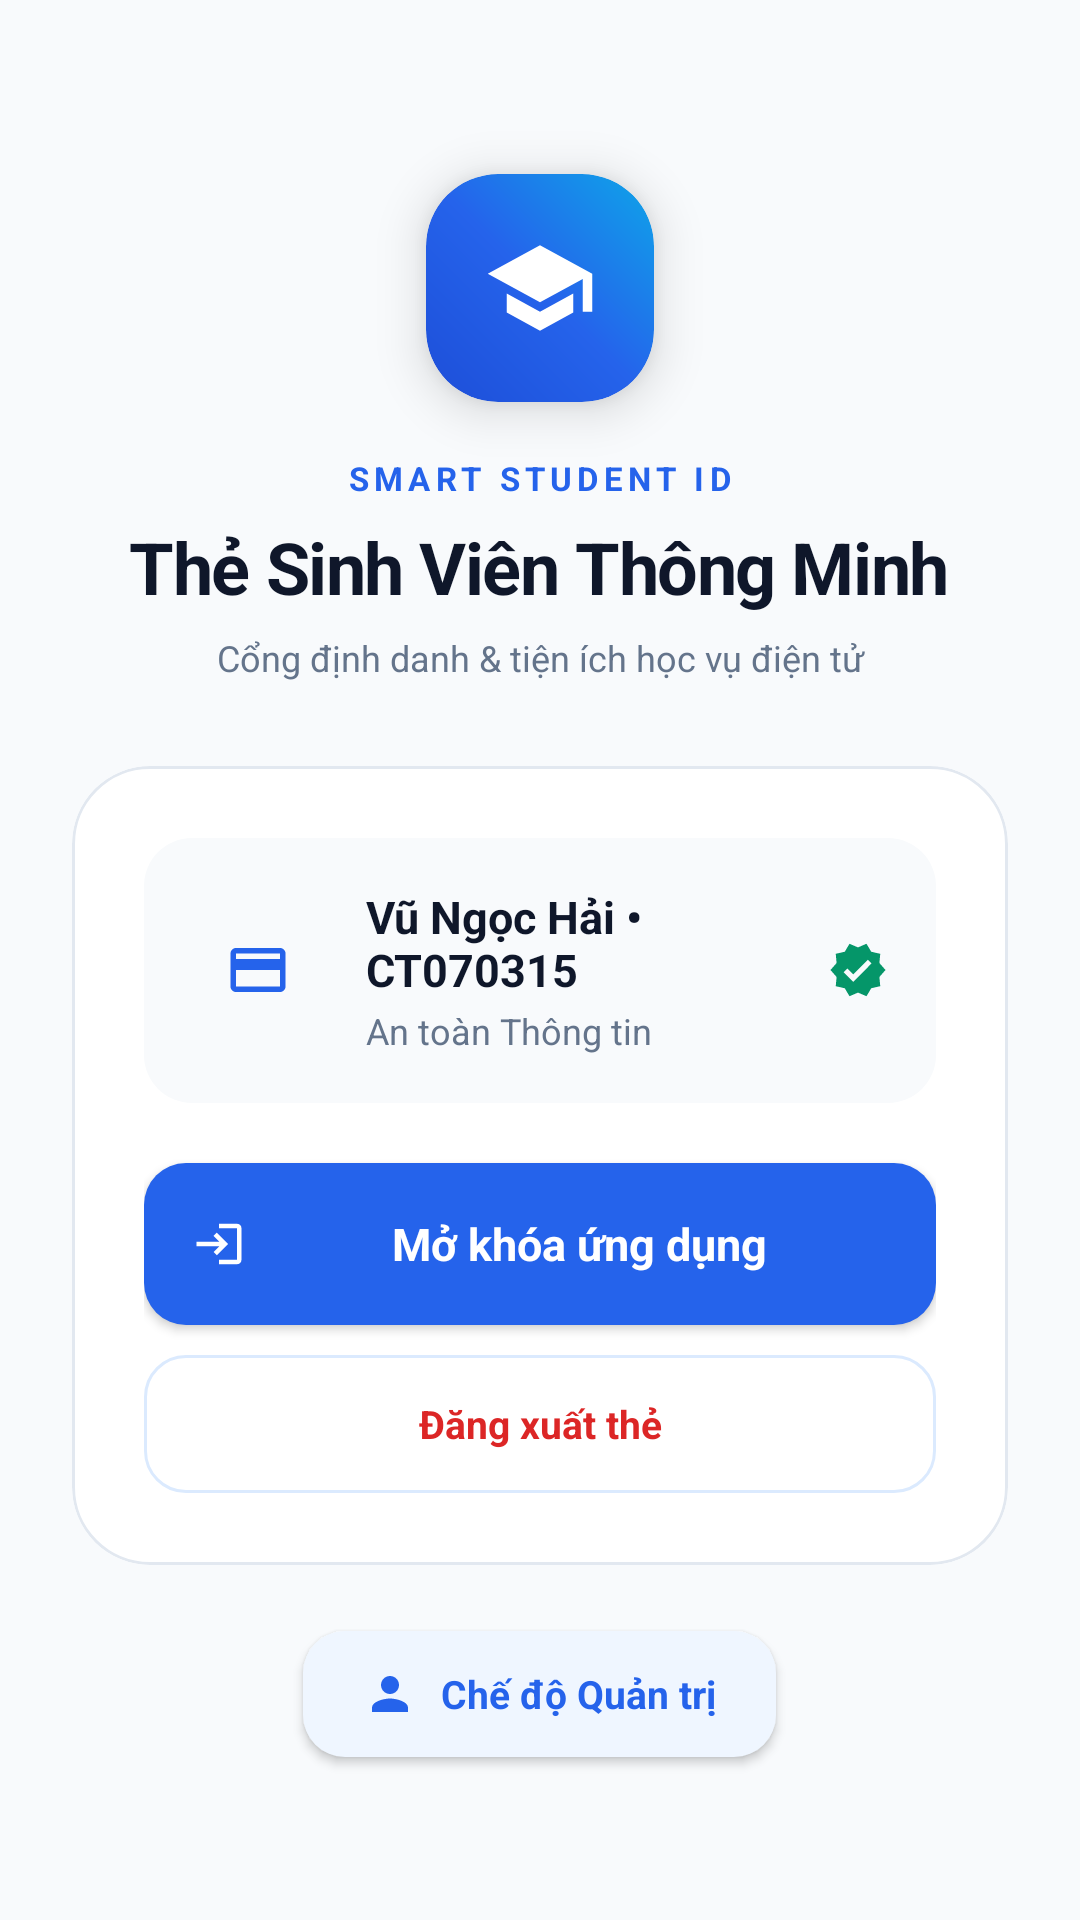

Screen size 1080x1920. Icon name, then its box in pixels as bbox=[x1, y1, x2, y2]:
school: bbox=[488, 231, 597, 331]
Thẻ sinh viên: bbox=[230, 948, 286, 992]
Đã bảo vệ: bbox=[830, 944, 886, 996]
